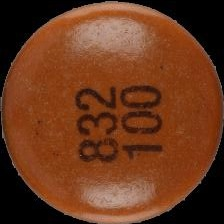67046-104: (0, 0, 224, 224)
